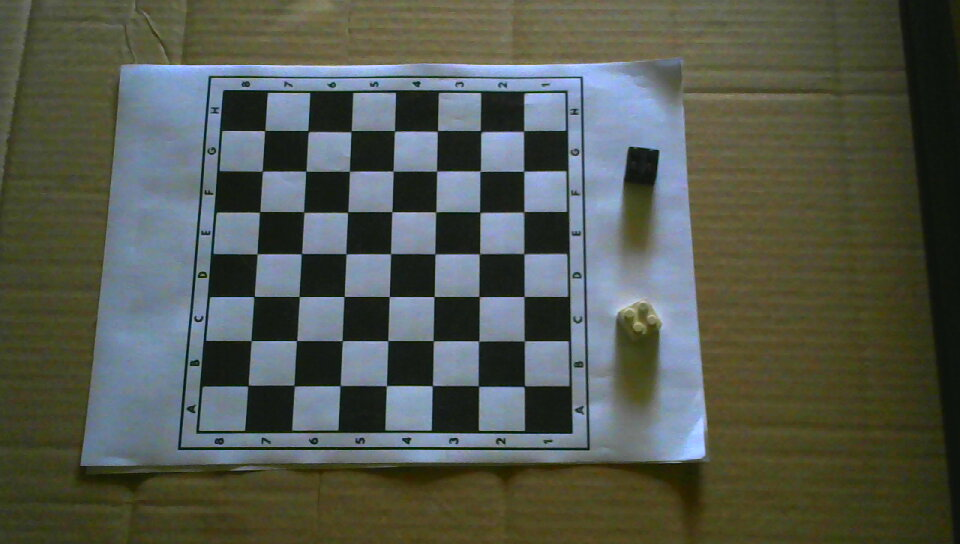bp: (622, 145, 662, 188)
wp: (616, 296, 664, 343)
